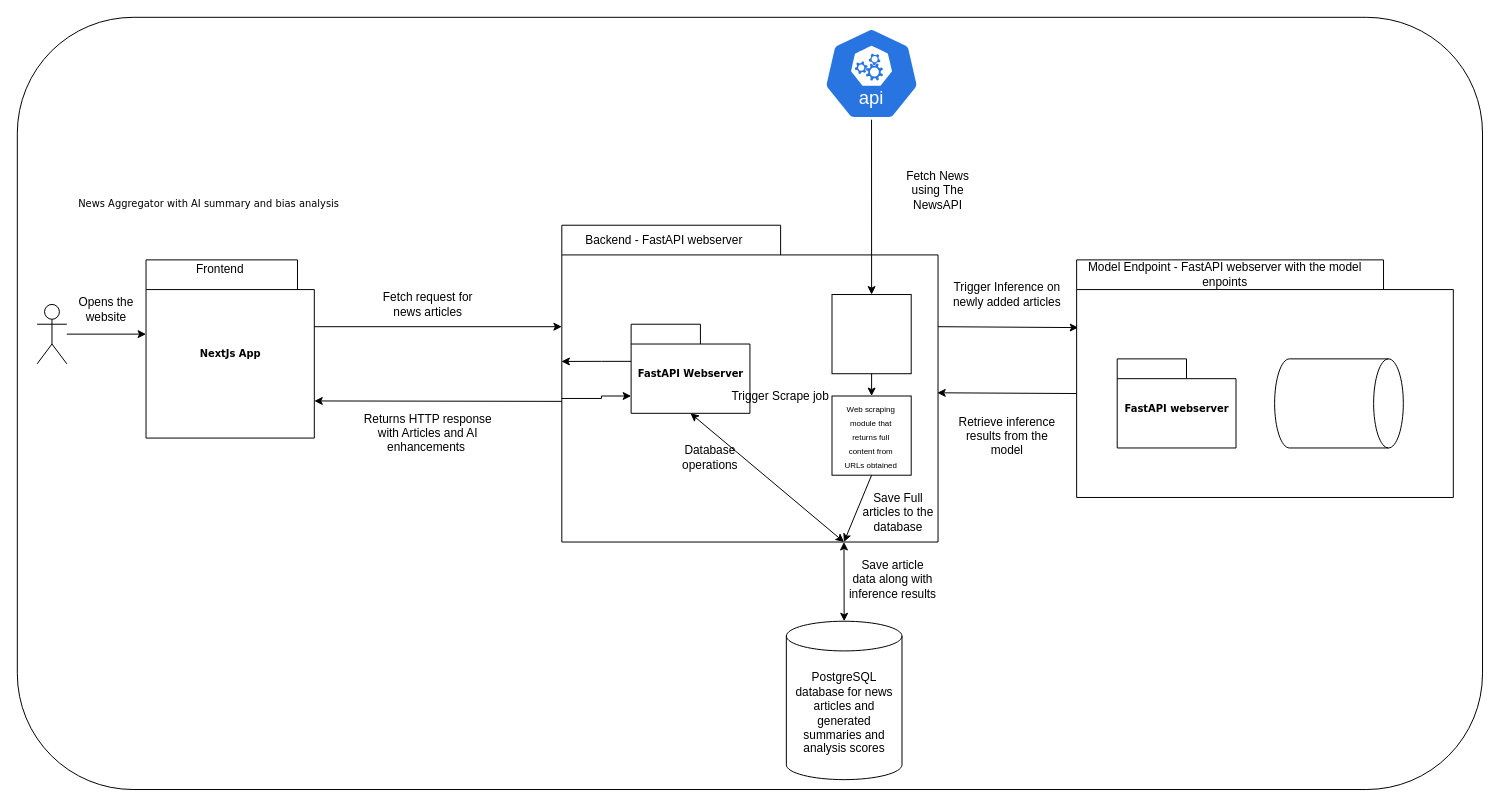
The diagram is 1500 pixels wide and 807 high, and some of its shapes have lost their labels. The centre of each missing label's shape, as x and y in pixels:
Actor: the point at 51,333
Locally downloaded model artifacts: the point at 1338,403
Scheduled job that pulls data from TheNewsAPI: the point at 871,334
